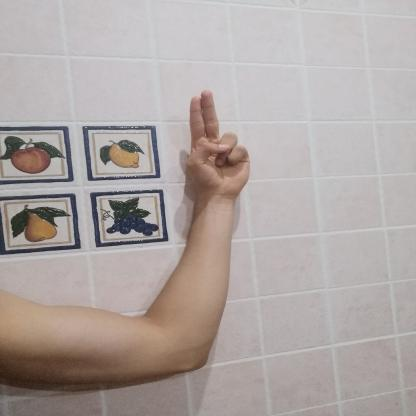TA: (172, 80, 266, 203)
